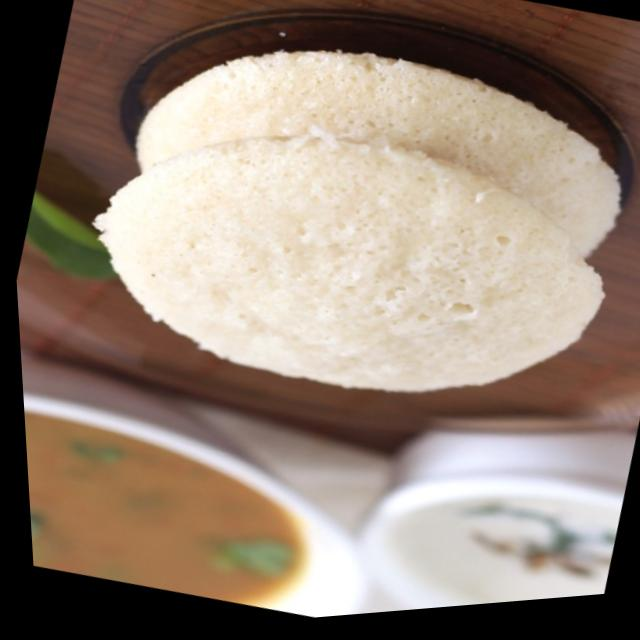IDLI: (90, 49, 620, 393)
